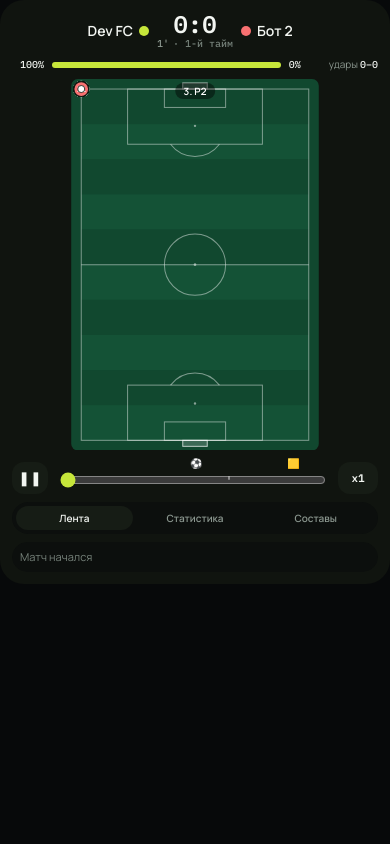
it: ReplayPlayer › the latest moment shows on the pitch, scorers under the score; speed cycles with a tap
# Frame 5 has the goal (mark at frame 5): scrub just after it.
Set the slider named "Перемотка" to "2600" at (227, 480), box [60,472,326,488]
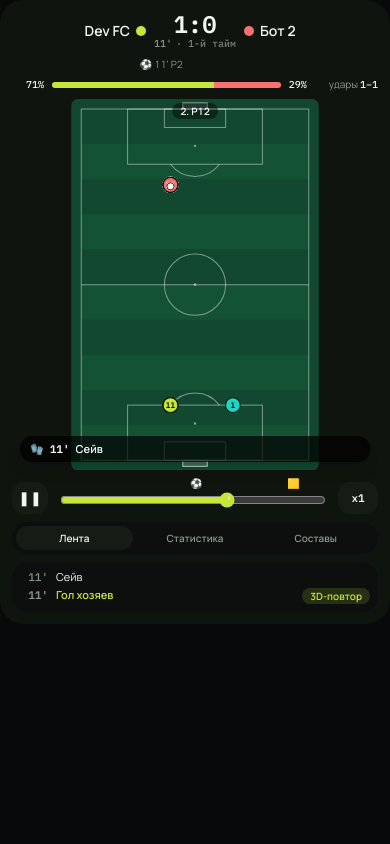
Result: the element named "Голы" shows "11' P2" at [140,57,183,71]
Result: the 1st text "Сейв" is shown at [76,441,103,456]
Click the button named "Скорость x1" at (358, 498), box [338,482,378,514]
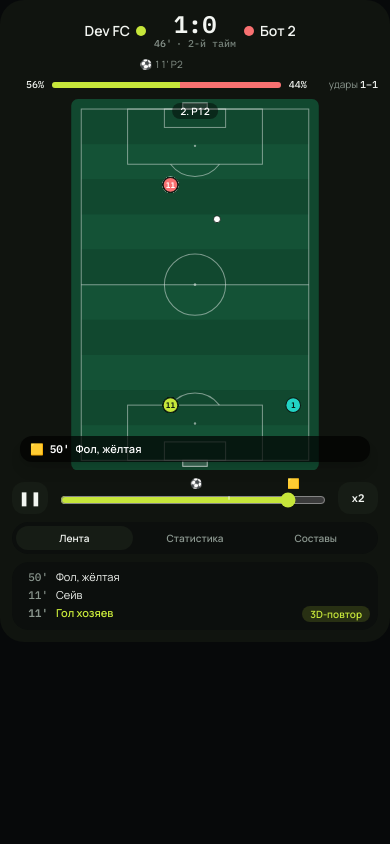
Result: the button named "Скорость x2" is shown at [338,482,378,514]
